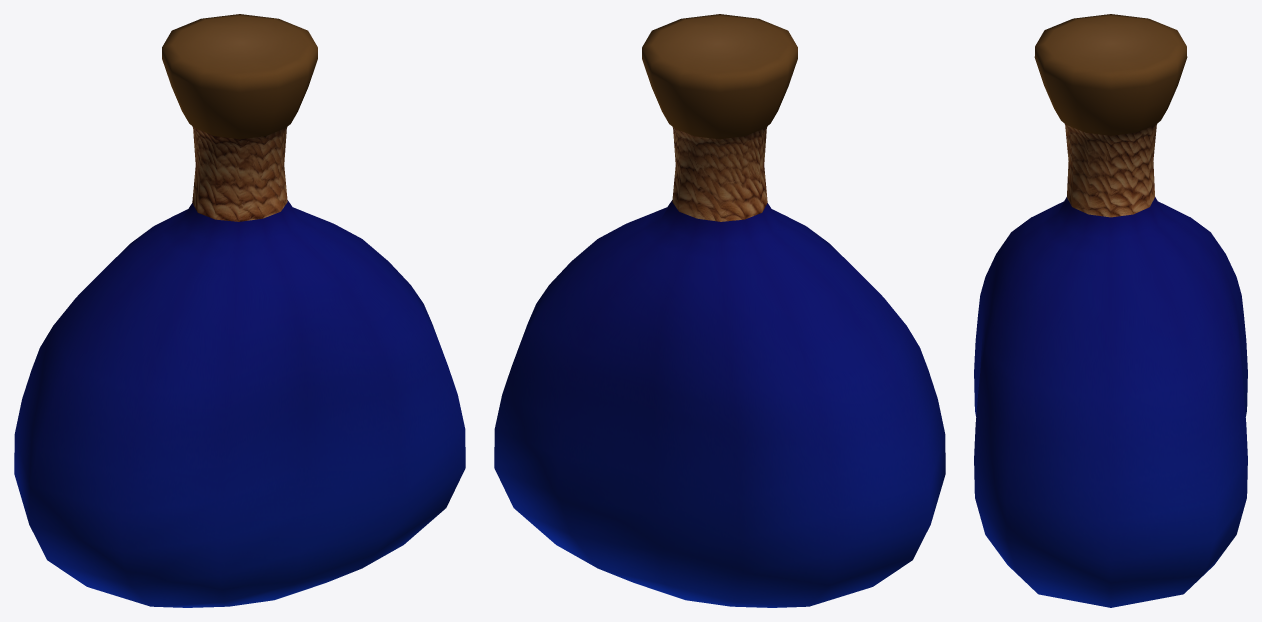
File: Potion3.fbx
3 renders of one model, left to right at view 1: azimuth 30°, elevation 25°; view 2: azimuth 150°, elevation 25°; view 3: azimuth 270°, elevation 25°, orthographic. The views are drawn at different scales.
Parts seen in each view (by area): view 1: Cylinder013; view 2: Cylinder013; view 3: Cylinder013.
Boxes of the visible parts, x1,y1,x2,y2 form: Cylinder013: (14, 14, 465, 607); Cylinder013: (494, 14, 945, 607); Cylinder013: (974, 14, 1247, 607).
Size of the model in its own units: 0.7514 by 0.9219 by 0.4344.
